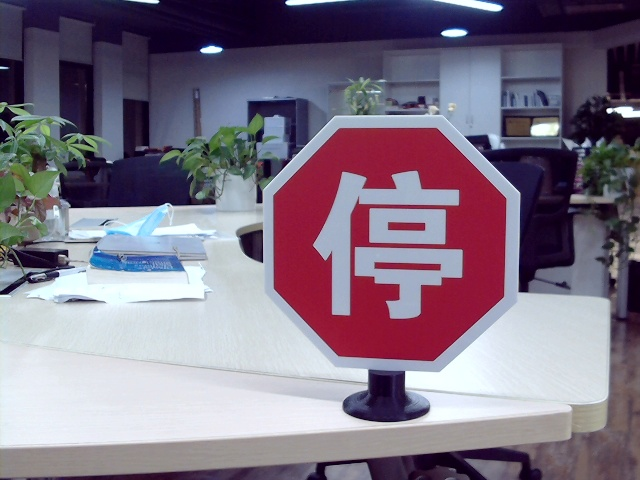stop: (311, 160, 472, 320)
